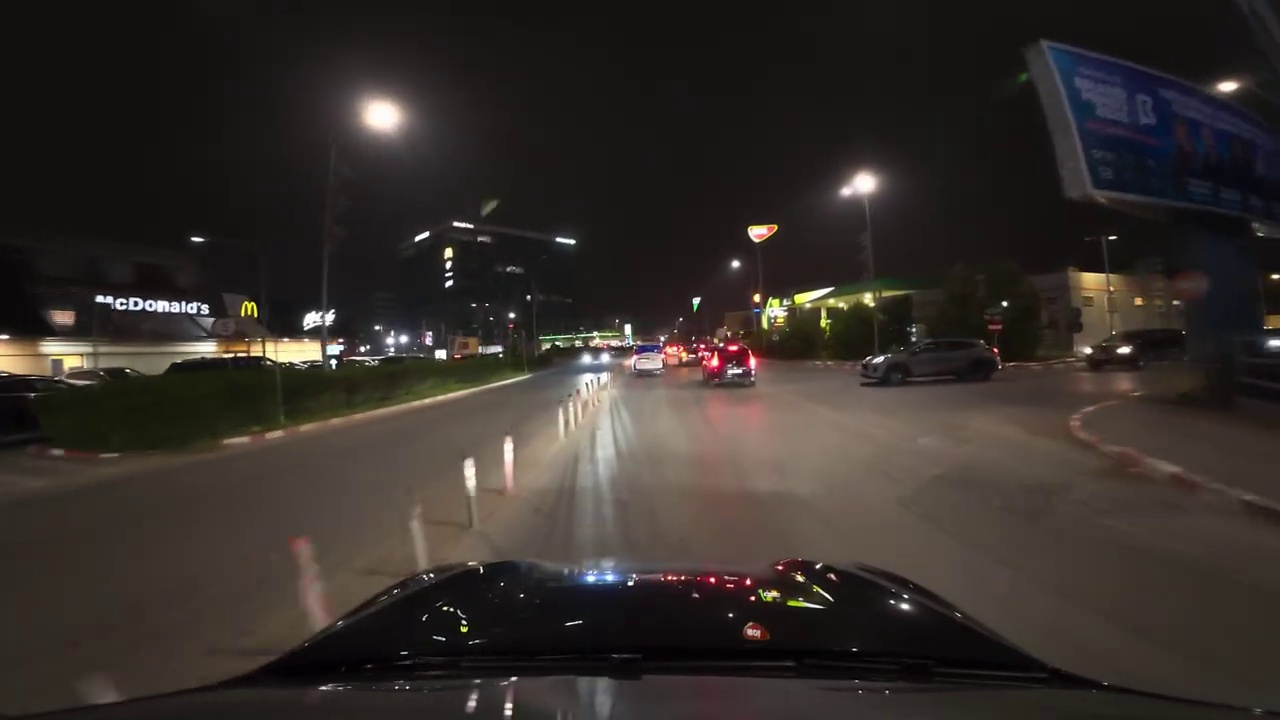acesa: (364, 100, 399, 130), (842, 170, 878, 197), (725, 256, 743, 276), (292, 537, 309, 555)
